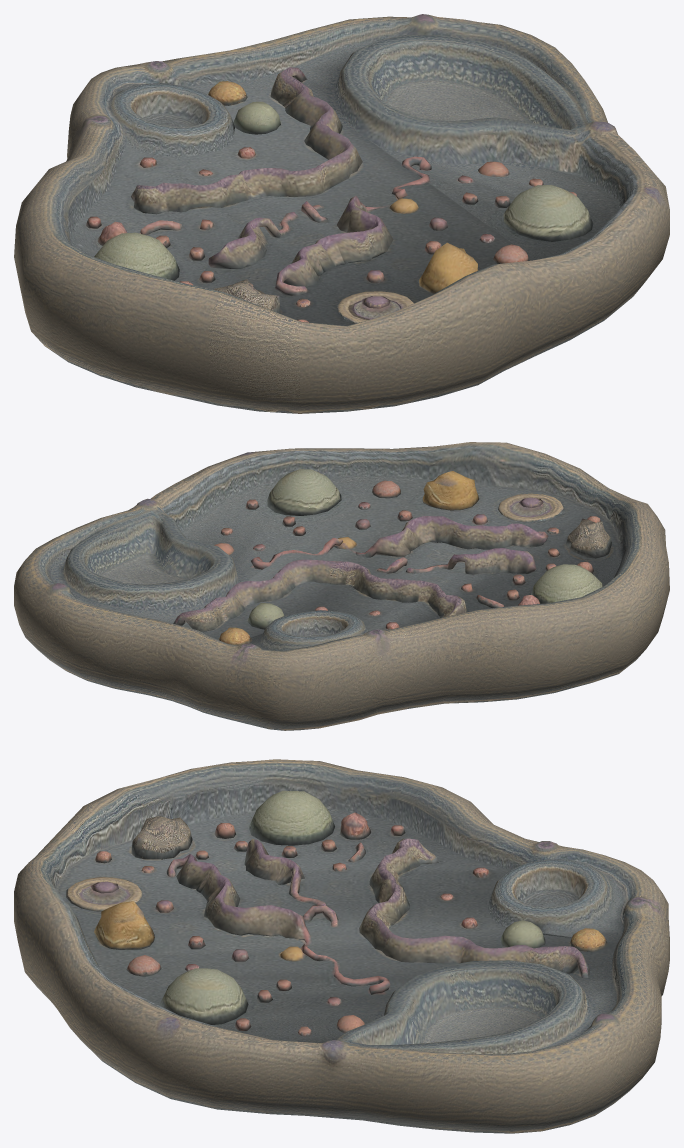
Rendered from progenote-tripo.glb.
3 views of the same model, one above another, from view 1: azimuth 30°, elevation 25°; view 2: azimuth 150°, elevation 25°; view 3: azimuth 270°, elevation 25° (orthographic). The views are drawn at different scales.
Parts seen in each view (by area): view 1: tripo_node_e2e8fb34-541f-4a6c-a043-f91eee66b4c9; view 2: tripo_node_e2e8fb34-541f-4a6c-a043-f91eee66b4c9; view 3: tripo_node_e2e8fb34-541f-4a6c-a043-f91eee66b4c9.
Boxes of the visible parts, left/top/right/bottom form: tripo_node_e2e8fb34-541f-4a6c-a043-f91eee66b4c9: left=14, top=14, right=669, bottom=413; tripo_node_e2e8fb34-541f-4a6c-a043-f91eee66b4c9: left=14, top=442, right=669, bottom=730; tripo_node_e2e8fb34-541f-4a6c-a043-f91eee66b4c9: left=14, top=759, right=669, bottom=1133.
Size of the model in its own units: 0.998 by 0.1621 by 0.9395.
1 material, 1 textured.
